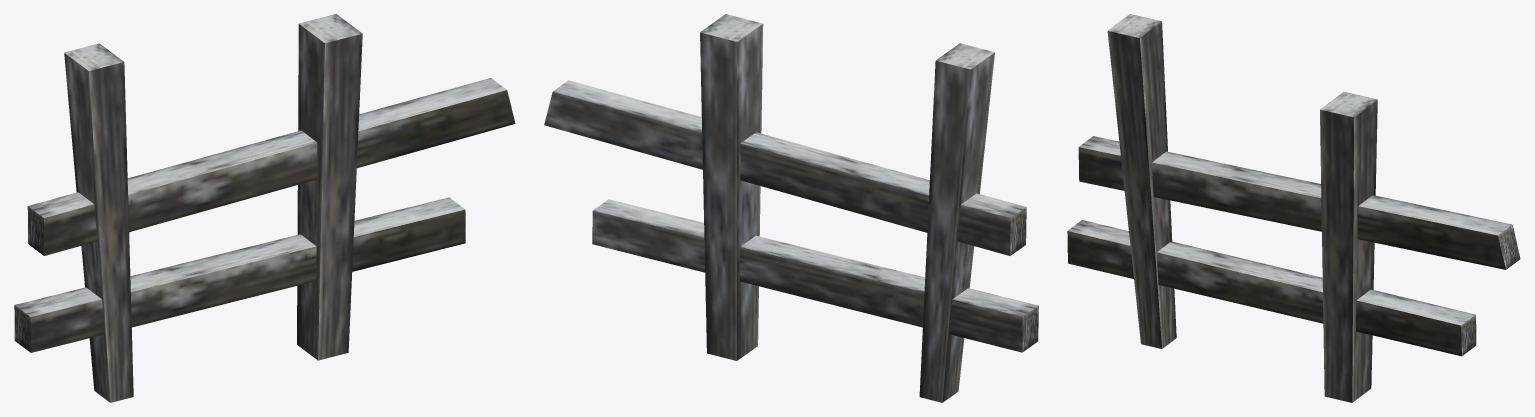
Rendered from S_Build_Snowland085.FBX.
The picture shows the model from 3 angles, left to right: view 1: azimuth 30°, elevation 25°; view 2: azimuth 150°, elevation 25°; view 3: azimuth 330°, elevation 25°; orthographic projection. The views are drawn at different scales.
Visible parts, largest first — view 1: S_Build_Snowland085; view 2: S_Build_Snowland085; view 3: S_Build_Snowland085.
Boxes of the visible parts, x1,y1,x2,y2 form: S_Build_Snowland085: [14, 14, 515, 402]; S_Build_Snowland085: [544, 14, 1038, 402]; S_Build_Snowland085: [1067, 14, 1520, 402].
Size of the model in its own units: 272 by 26.59 by 189.
